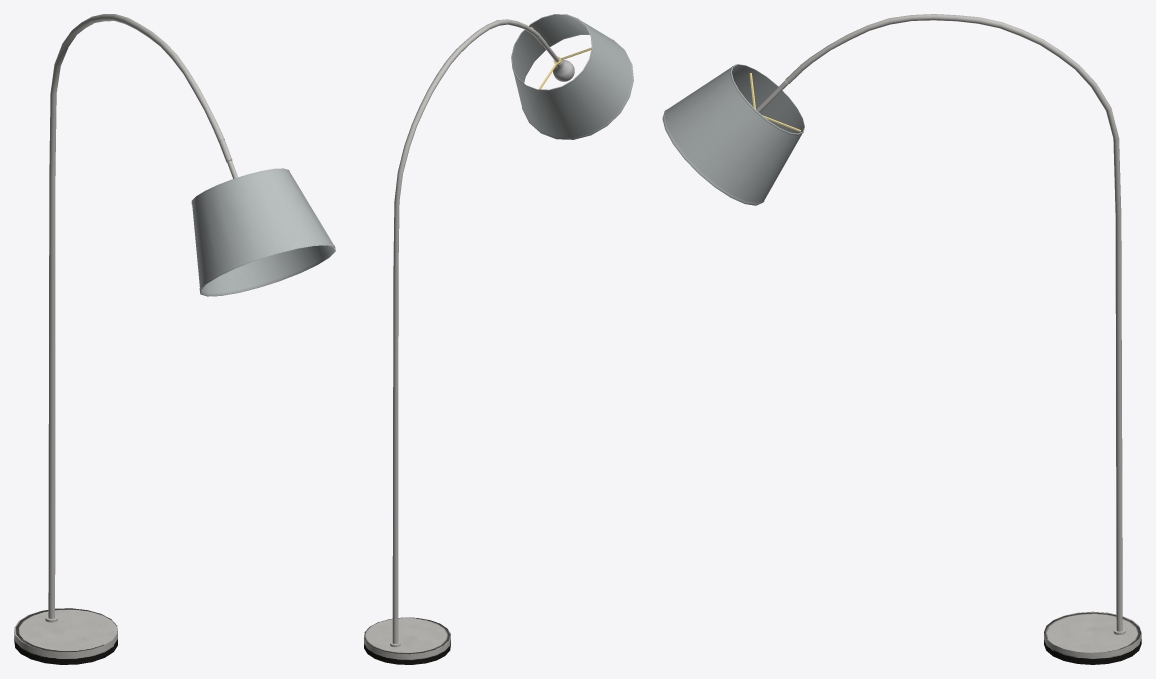
File: B0742FPL25.glb
3 renders of one model, left to right at view 1: azimuth 30°, elevation 25°; view 2: azimuth 150°, elevation 25°; view 3: azimuth 270°, elevation 25°, orthographic. The views are drawn at different scales.
Visible parts, largest first — view 1: "$ACAGPHNAABCAAAAAICBAAAAAAAAACGPFIGHN"; view 2: "$ACAGPHNAABCAAAAAICBAAAAAAAAACGPFIGHN"; view 3: "$ACAGPHNAABCAAAAAICBAAAAAAAAACGPFIGHN".
Part boxes in pixels (<box>): "$ACAGPHNAABCAAAAAICBAAAAAAAAACGPFIGHN": <box>14,14,335,664</box>; "$ACAGPHNAABCAAAAAICBAAAAAAAAACGPFIGHN": <box>364,14,633,664</box>; "$ACAGPHNAABCAAAAAICBAAAAAAAAACGPFIGHN": <box>662,14,1141,664</box>.
Bounding box in the file's own units: 0.4058 × 2.1 × 1.45.
1 material, 1 textured.
